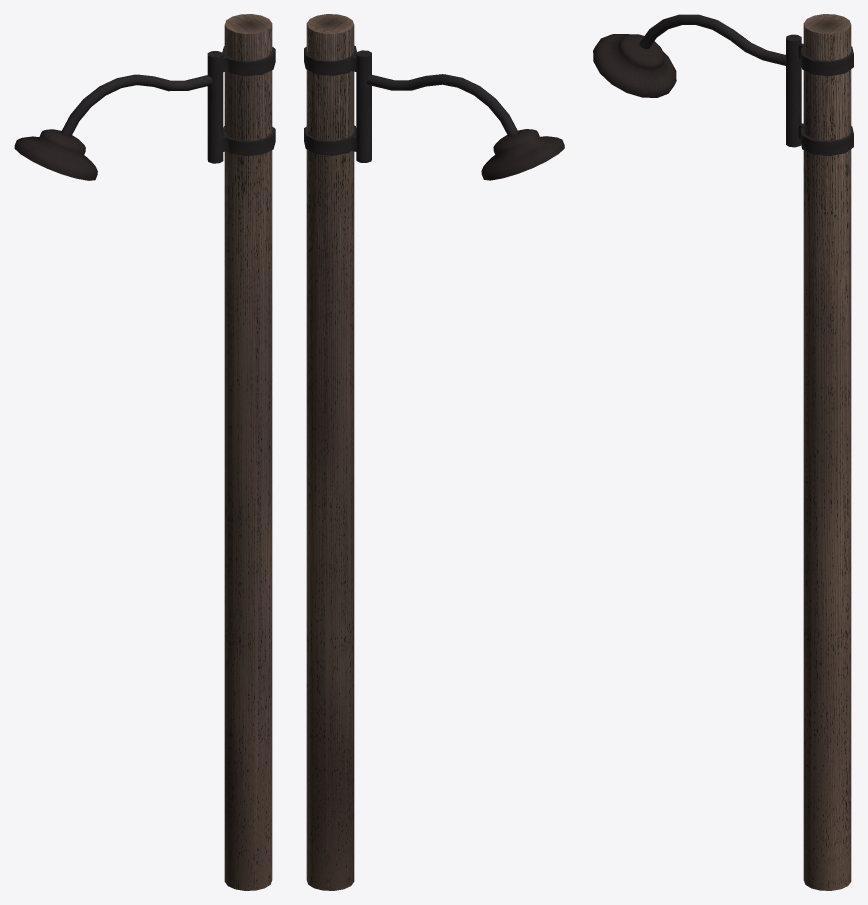
Rendered from o_bg_009_streetlight_01_01.fbx.
3 renders of one model, left to right at view 1: azimuth 30°, elevation 25°; view 2: azimuth 150°, elevation 25°; view 3: azimuth 330°, elevation 25°, orthographic.
Parts seen in each view (by area): view 1: streetlight; view 2: streetlight; view 3: streetlight.
Part boxes in pixels (left/top/right/bottom): streetlight: left=14, top=14, right=275, bottom=890; streetlight: left=304, top=14, right=564, bottom=890; streetlight: left=593, top=14, right=853, bottom=890.
Bounding box in the file's own units: 72.99 × 238 × 22.37.
Materials: 1 (1 with a texture image).
